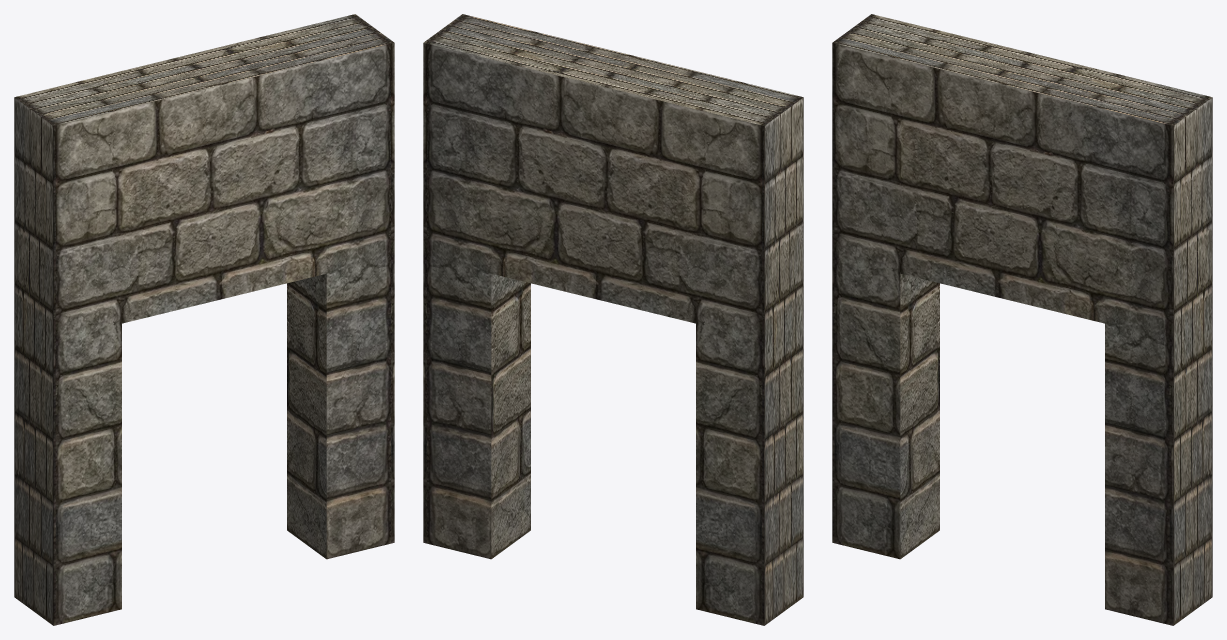
Rendered from frame_fortress.glb.
The picture shows the model from 3 angles, left to right: view 1: azimuth 30°, elevation 25°; view 2: azimuth 150°, elevation 25°; view 3: azimuth 330°, elevation 25°; orthographic projection.
Parts seen in each view (by area): view 1: Fortress gate; view 2: Fortress gate; view 3: Fortress gate.
Boxes of the visible parts, bbox=[...] form: Fortress gate: bbox=[14, 14, 394, 625]; Fortress gate: bbox=[423, 14, 803, 625]; Fortress gate: bbox=[832, 14, 1212, 625].
Bounding box in the file's own units: 2 × 2.8 × 0.4.
Materials: 1 (1 with a texture image).
